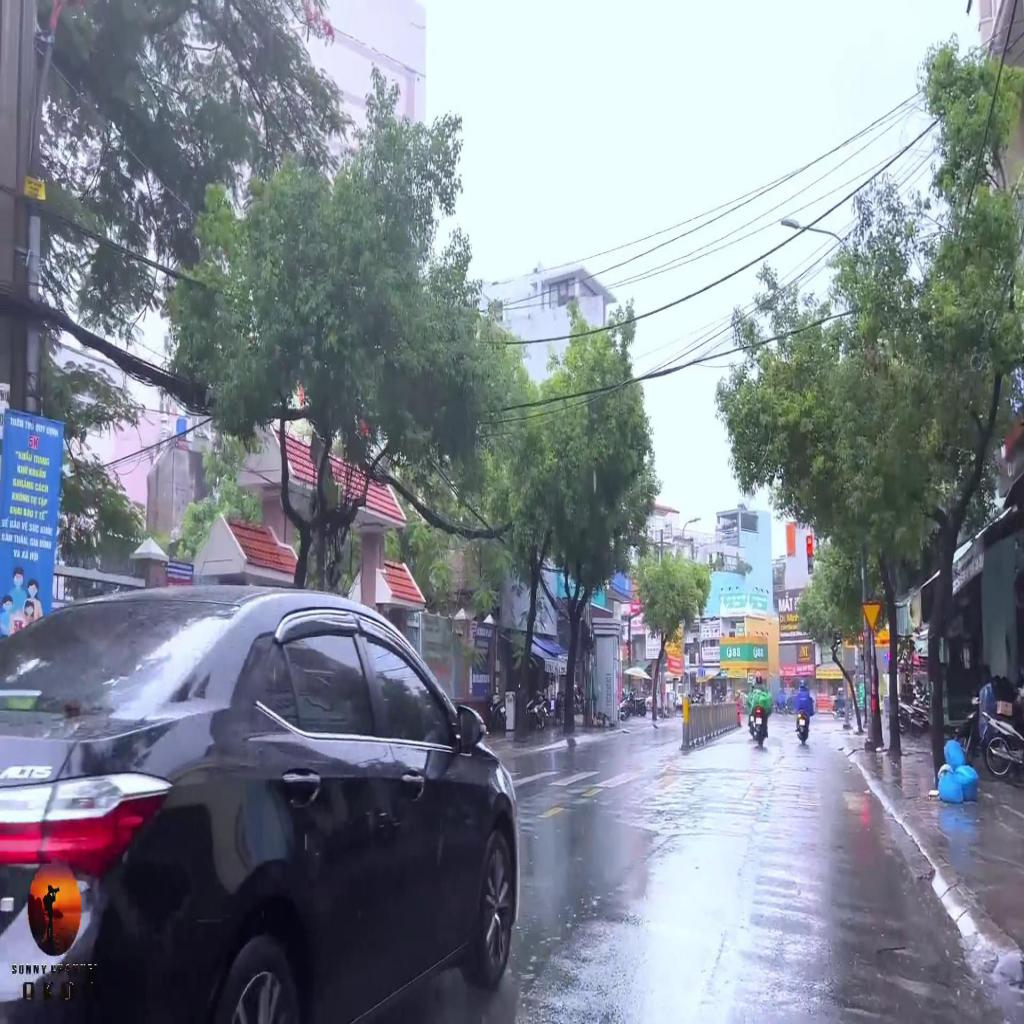giao_nhau_voi_duong_uu_tien: (861, 603, 880, 633)
